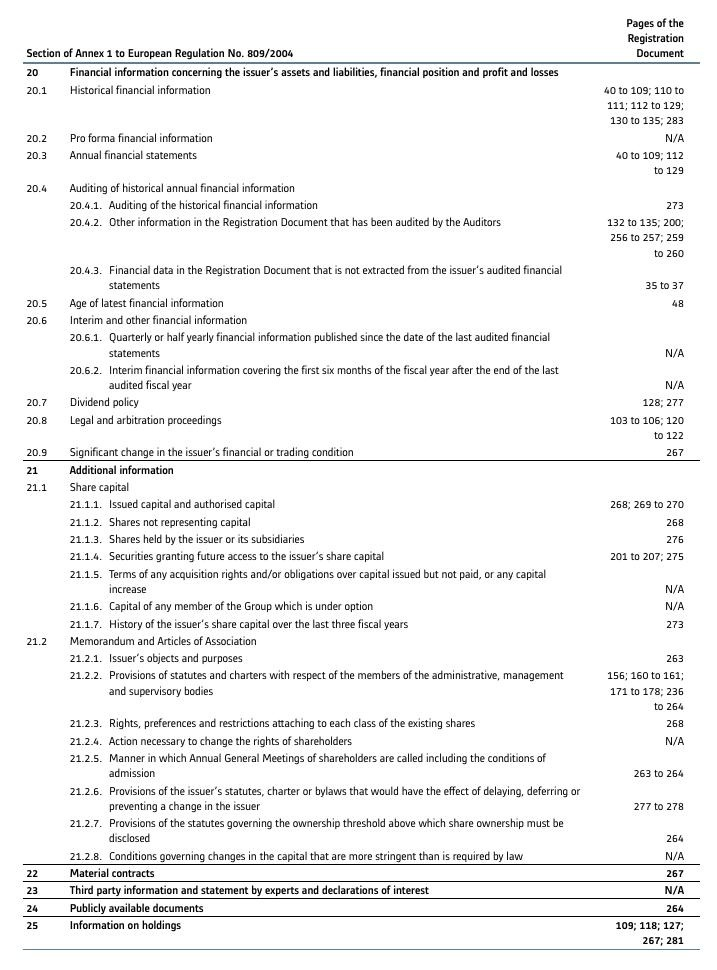table: (0, 0, 717, 970)
